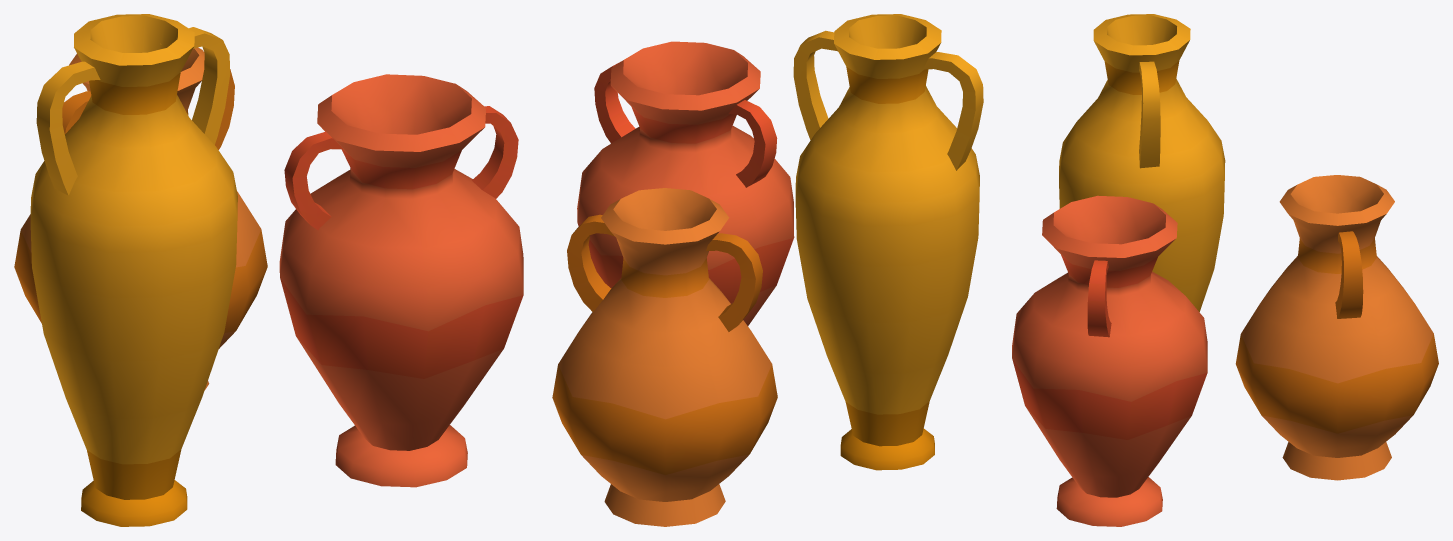
Rendered from amphora.fbx.
The picture shows the model from 3 angles, left to right: view 1: azimuth 30°, elevation 25°; view 2: azimuth 150°, elevation 25°; view 3: azimuth 270°, elevation 25°; orthographic projection. The views are drawn at different scales.
Visible parts, largest first — view 1: Amphora_3, Amphora_1, Amphora_2; view 2: Amphora_3, Amphora_2, Amphora_1; view 3: Amphora_1, Amphora_2, Amphora_3.
Part boxes in pixels (left/top/right/bottom): Amphora_3: left=30, top=14, right=237, bottom=526; Amphora_1: left=279, top=74, right=523, bottom=487; Amphora_2: left=14, top=47, right=267, bottom=390; Amphora_3: left=793, top=14, right=983, bottom=470; Amphora_2: left=552, top=188, right=777, bottom=526; Amphora_1: left=577, top=41, right=794, bottom=325; Amphora_1: left=1012, top=195, right=1207, bottom=526; Amphora_2: left=1235, top=175, right=1438, bottom=480; Amphora_3: left=1059, top=14, right=1225, bottom=311.
Size of the model in its own units: 1.32 by 1.31 by 1.34.
